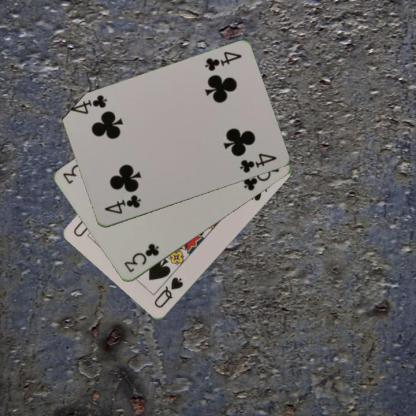3c: (121, 241, 161, 274)
4c: (101, 192, 142, 216), (202, 49, 243, 73)
Qs: (151, 274, 185, 310)
